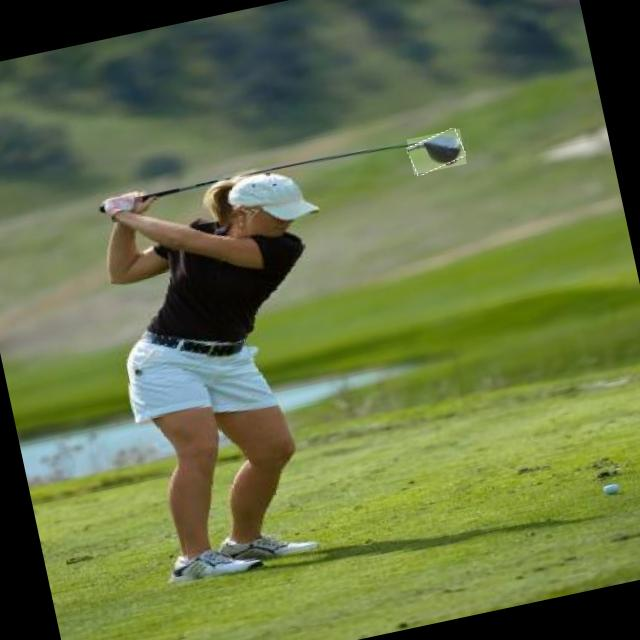club head: (406, 128, 466, 174)
